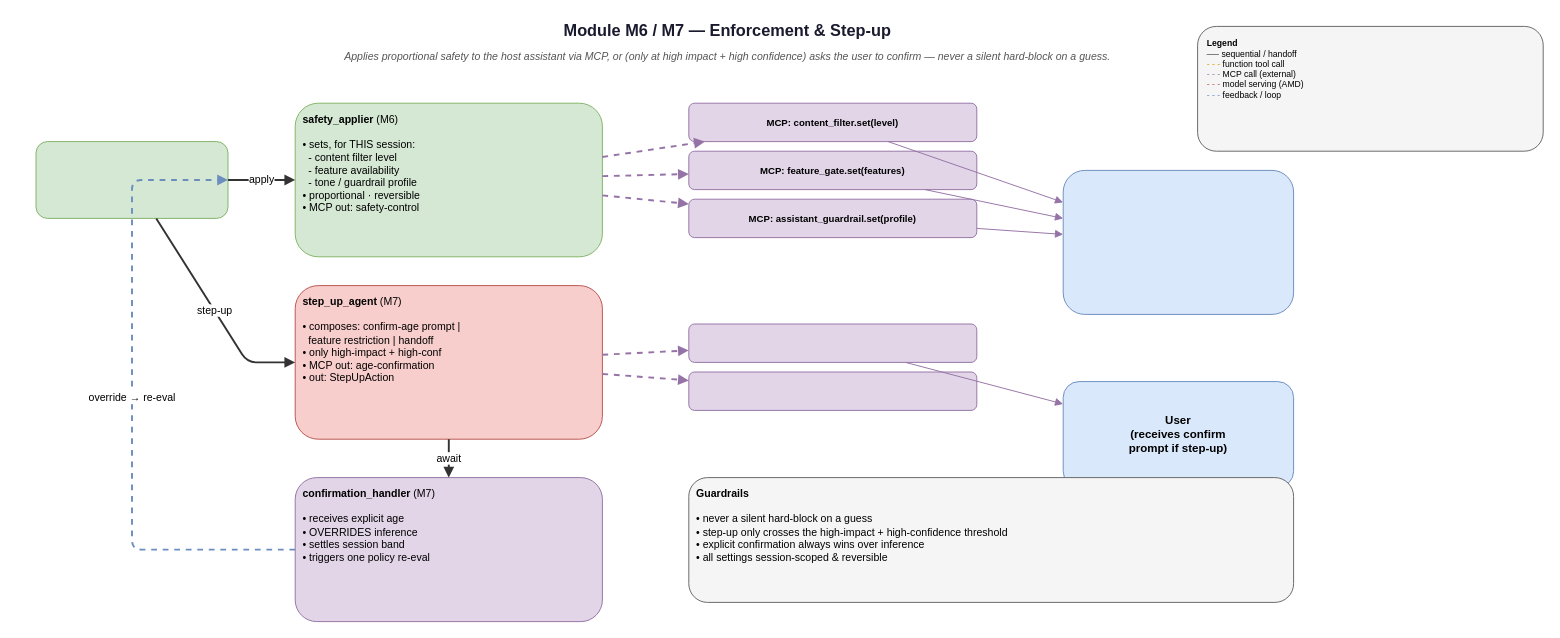
This 1560x638 diagram has some shape labels left out. Each missing label, with the centre of its shape:
"Host assistant (reply path) content filter · features · tone applied here" belongs at [1178,241].
"Input Decision (from M5)" belongs at [131,179].
"MCP: age_confirmation.request()" belongs at [832,342].
"MCP: feature_gate.restrict()" belongs at [832,390].
